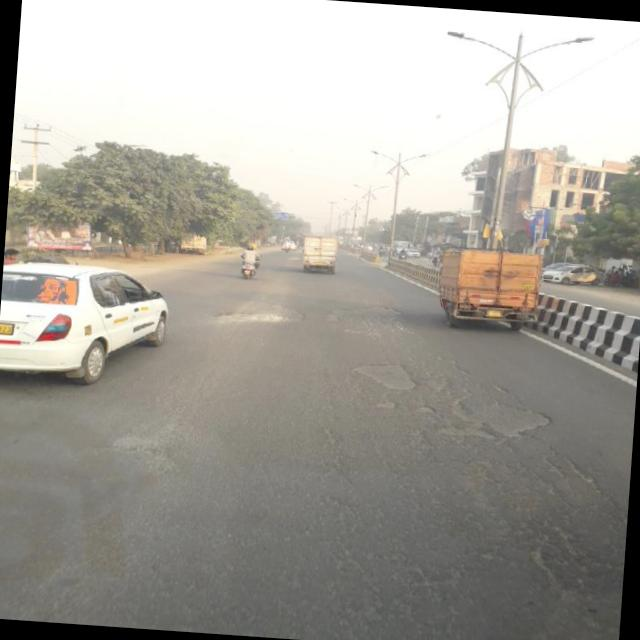crack: (309, 364, 635, 640)
pothole: (449, 372, 552, 438), (201, 288, 310, 343), (324, 284, 411, 342), (355, 352, 421, 398), (364, 386, 403, 418), (403, 392, 442, 424)
